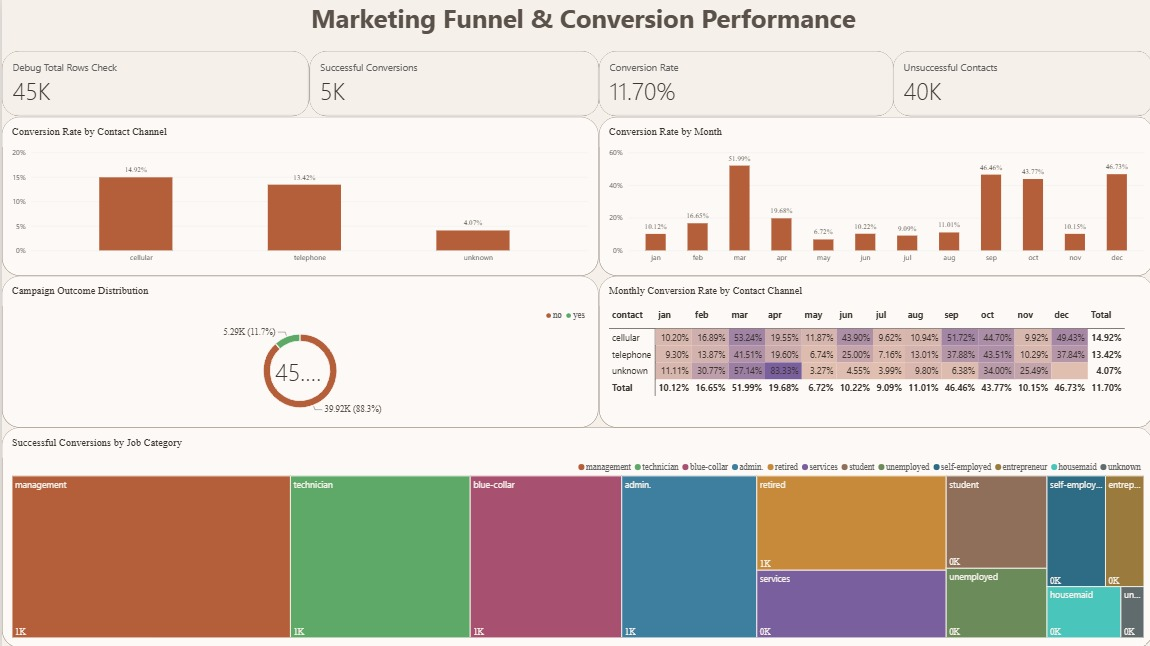

This screenshot's page, from the dashboard's own definition file:
{"tool":"powerbi","page":{"name":"Marketing Performance Overview","canvas":[1920,1080],"ordinal":0},"visuals":[{"type":"cardVisual","fields":{"Data":["BankMarketing.Successful Conversions"]},"box":[511.8,85.3,482.4,108.8],"z":0},{"type":"cardVisual","fields":{"Data":["BankMarketing.Conversion Rate"]},"box":[994.1,85.3,491.2,108.8],"z":1000},{"type":"cardVisual","fields":{"Data":["BankMarketing.Unsuccessful Contacts"]},"box":[1485.3,85.3,435.3,108.8],"z":2000},{"type":"clusteredColumnChart","title":"Conversion Rate by Contact Channel","fields":{"Category":["BankMarketing.contact"],"Y":["BankMarketing.Conversion Rate"]},"box":[0,194.1,994.1,264.7],"z":3000},{"type":"clusteredColumnChart","title":"Conversion Rate by Month","fields":{"Category":["MonthLookup.Month"],"Y":["BankMarketing.Conversion Rate"]},"box":[994.1,194.1,926.5,264.7],"z":4000},{"type":"donutChart","title":"Campaign Outcome Distribution","fields":{"Category":["BankMarketing.y"],"Y":["CountNonNull(BankMarketing.y)"]},"box":[0,458.8,994.1,252.9],"z":5000},{"type":"treemap","title":"Successful Conversions by Job Category","fields":{"Group":["BankMarketing.job"],"Values":["BankMarketing.Successful Conversions"]},"box":[0,711.8,1920.6,367.6],"z":6000},{"type":"cardVisual","fields":{"Data":["BankMarketing.Debug Total Rows Check"]},"box":[0,85.3,511.8,108.8],"z":7000},{"type":"pivotTable","title":"Monthly Conversion Rate by Contact Channel","fields":{"Columns":["MonthLookup.Month"],"Rows":["BankMarketing.contact"],"Values":["BankMarketing.Conversion Rate"]},"box":[994.1,458.8,926.5,252.9],"z":8000},{"type":"textbox","box":[511.8,0,1097.1,85.3],"z":9000}]}

Visuals, with their boxes in screenshot pixels (x1, y1, x2, y2), scaled from the page's 1920x1080 canvas onto the 1150x646 screenshot:
cardVisual - BankMarketing.Successful Conversions: 307, 51, 595, 116
cardVisual - BankMarketing.Conversion Rate: 595, 51, 890, 116
cardVisual - BankMarketing.Unsuccessful Contacts: 890, 51, 1149, 116
"Conversion Rate by Contact Channel" clusteredColumnChart: 0, 116, 595, 274
"Conversion Rate by Month" clusteredColumnChart: 595, 116, 1149, 274
"Campaign Outcome Distribution" donutChart: 0, 274, 595, 426
"Successful Conversions by Job Category" treemap: 0, 426, 1149, 645
cardVisual - BankMarketing.Debug Total Rows Check: 0, 51, 307, 116
"Monthly Conversion Rate by Contact Channel" pivotTable: 595, 274, 1149, 426
textbox: 307, 0, 964, 51
